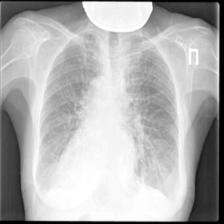tuberculosis: (27, 28, 188, 215)
